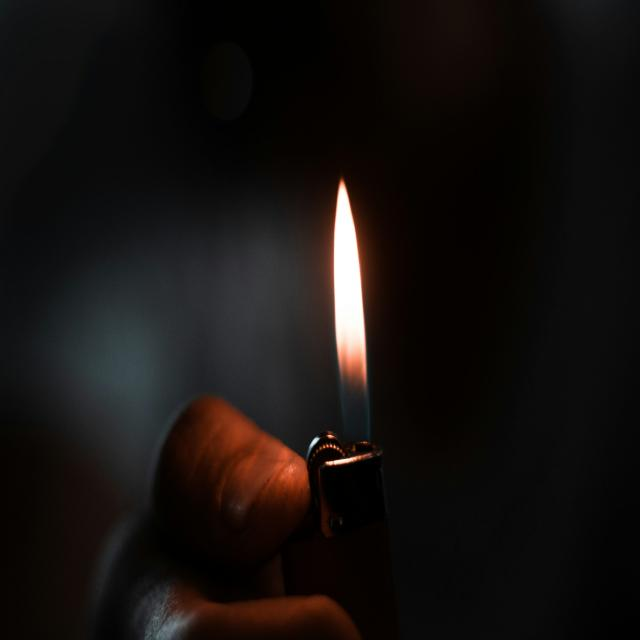fire: (333, 179, 370, 440)
